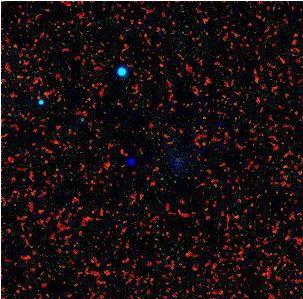star: (112, 144, 142, 174)
